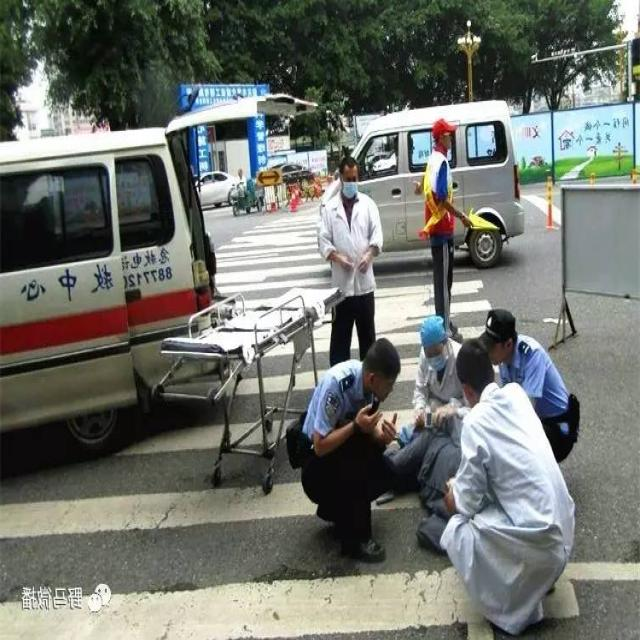nofight: (451, 341, 576, 632), (298, 332, 408, 576), (489, 302, 581, 432), (320, 155, 378, 347), (418, 108, 458, 320), (417, 328, 453, 436)
